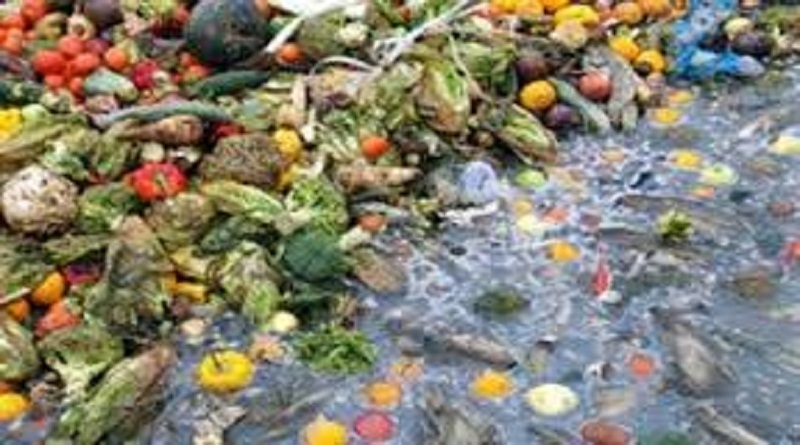kitchen_waste: (38, 321, 129, 421), (176, 1, 286, 72), (1, 163, 87, 235), (280, 172, 363, 232), (295, 324, 385, 378), (277, 225, 351, 286), (114, 110, 210, 148), (194, 341, 258, 390), (294, 14, 355, 63), (545, 3, 604, 52), (521, 381, 582, 420), (465, 366, 516, 402), (351, 409, 404, 443), (298, 415, 358, 445), (578, 66, 615, 103), (516, 75, 557, 108), (29, 47, 71, 79), (631, 47, 671, 80), (544, 99, 586, 130), (127, 58, 161, 92), (606, 30, 641, 59), (100, 44, 132, 71), (358, 133, 391, 159), (70, 49, 104, 74), (55, 36, 85, 56)
